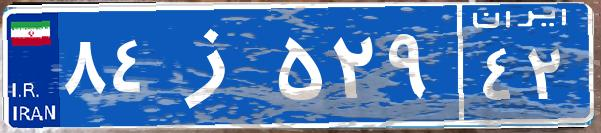2: (330, 28, 385, 110), (525, 38, 570, 115)
4: (475, 38, 525, 113), (110, 28, 158, 105)
5: (273, 28, 330, 110)
8: (57, 26, 110, 107)
9: (385, 28, 445, 110)
ز: (158, 15, 273, 115)
